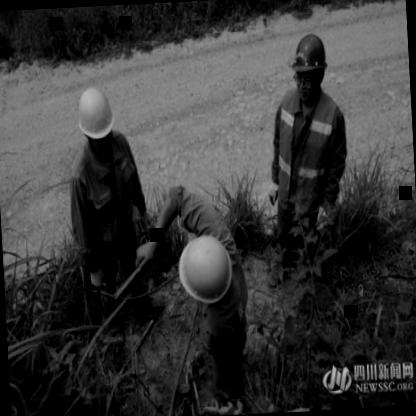helmet: (173, 230, 239, 312), (73, 79, 120, 159), (286, 25, 332, 106)
